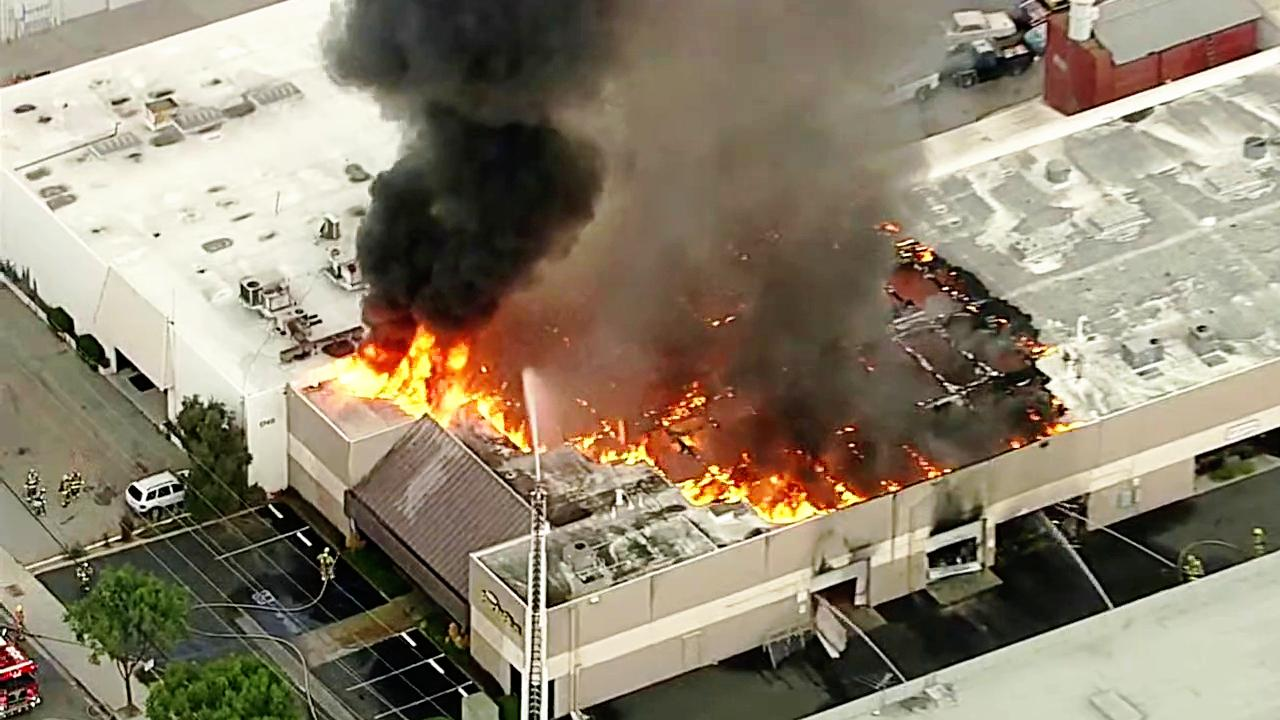fire: (330, 324, 457, 416), (678, 472, 819, 523)
smoke: (340, 7, 574, 311)
